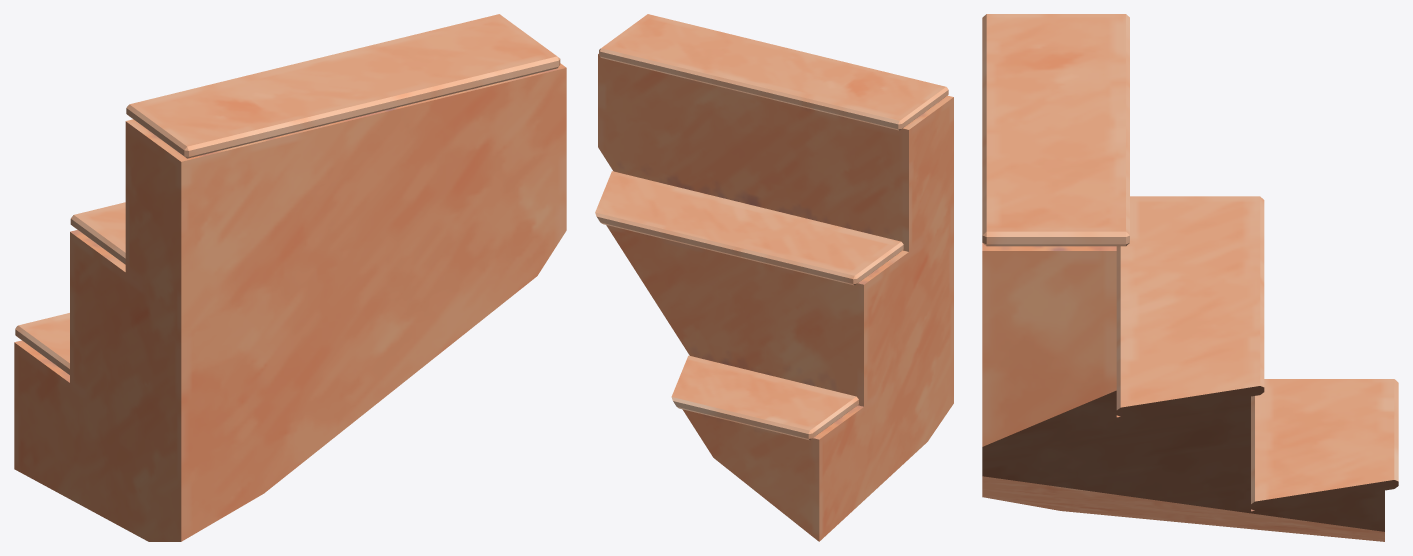
Rendered from stairs_narrow_s04.fbx.
3 views of the same model, side by side, from view 1: azimuth 30°, elevation 25°; view 2: azimuth 150°, elevation 25°; view 3: azimuth 270°, elevation 25° (orthographic). The views are drawn at different scales.
Visible parts, largest first — view 1: stairs_narrow_s04; view 2: stairs_narrow_s04; view 3: stairs_narrow_s04.
Boxes of the visible parts, left/top/right/bottom form: stairs_narrow_s04: left=14, top=14, right=566, bottom=541; stairs_narrow_s04: left=595, top=14, right=953, bottom=541; stairs_narrow_s04: left=982, top=14, right=1398, bottom=541.
Bounding box in the file's own units: 4 × 4.38 × 3.1.
